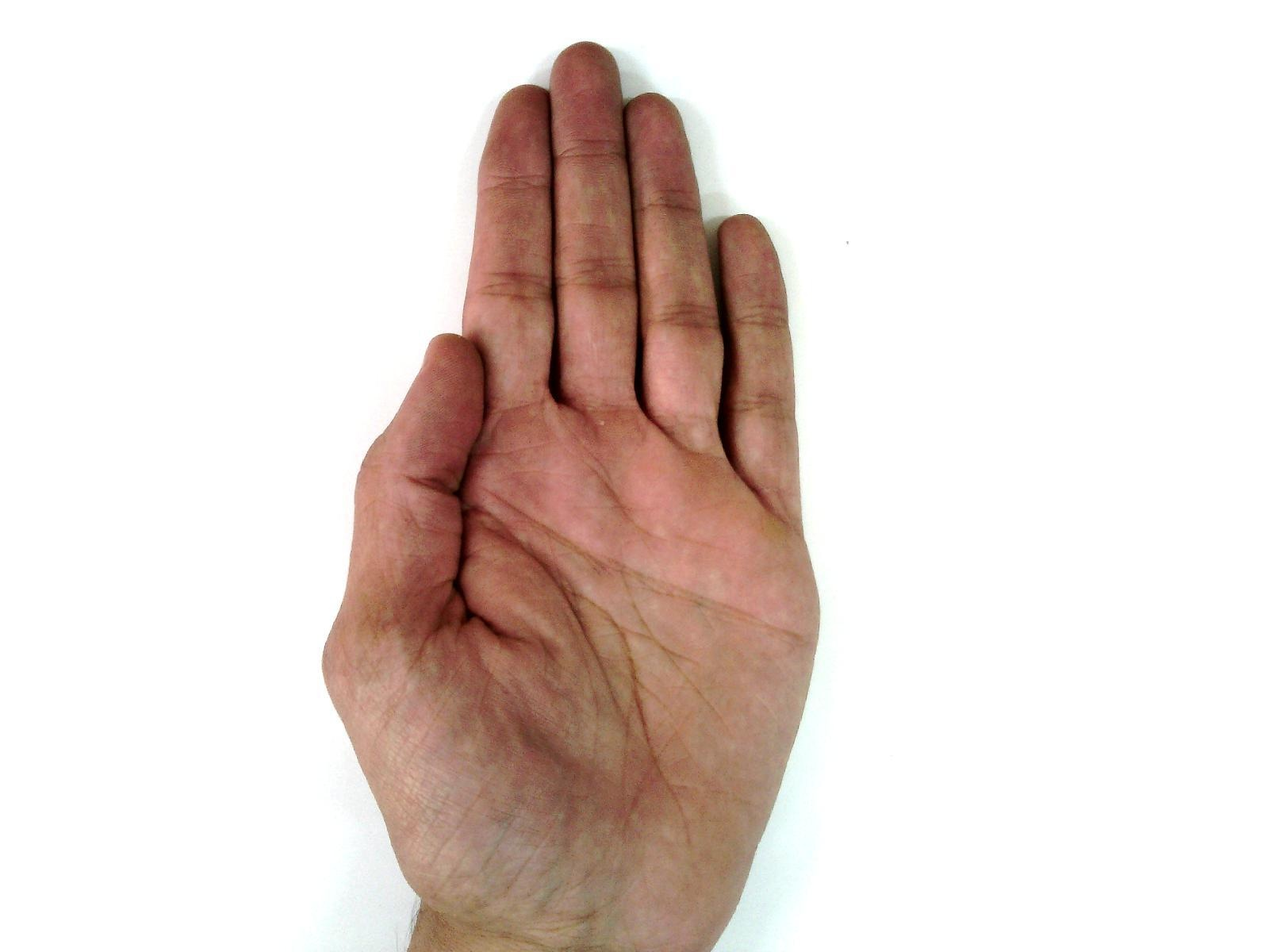open_palm: (320, 41, 825, 950)
